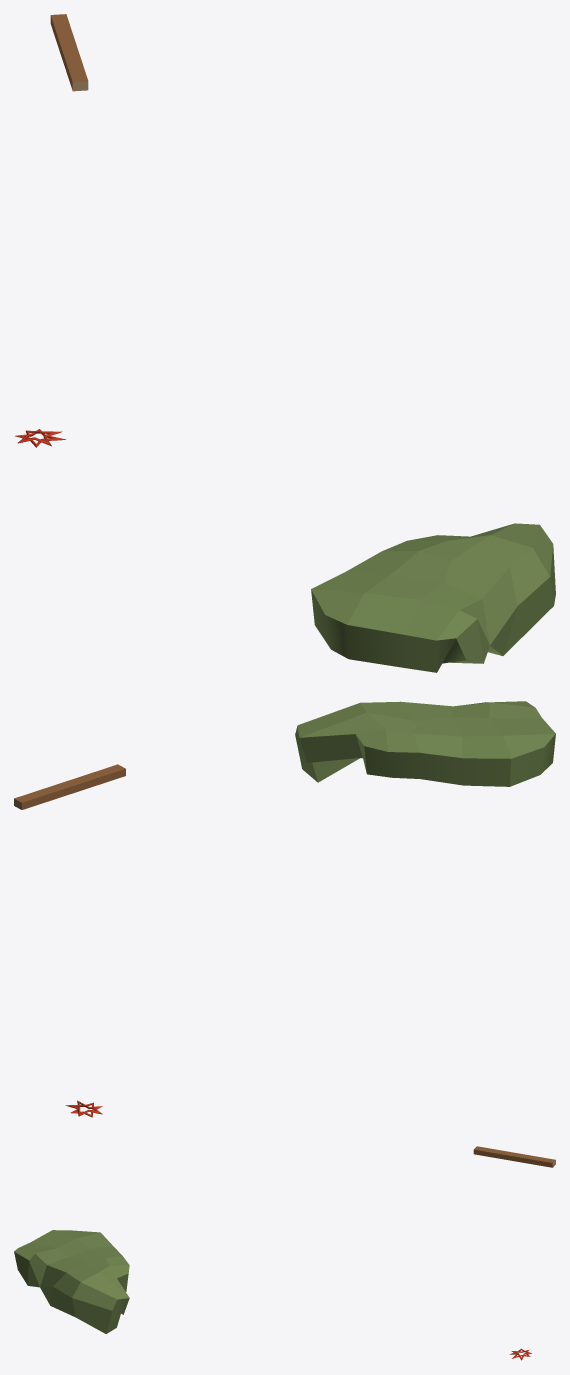
3 views of the same model, one above another, from view 1: azimuth 30°, elevation 25°; view 2: azimuth 150°, elevation 25°; view 3: azimuth 270°, elevation 25° (orthographic). The views are drawn at different scales.
Visible parts, largest first — view 1: Plane035_green3_0, Box815_brown_0; view 2: Plane035_green3_0, Box815_brown_0; view 3: Plane035_green3_0, Box815_brown_0.
Boxes of the visible parts, x1,y1,x2,y2 form: Plane035_green3_0: (311,523,555,672); Box815_brown_0: (50,14,88,90); Plane035_green3_0: (295,701,555,786); Box815_brown_0: (14,764,125,809); Plane035_green3_0: (14,1230,129,1333); Box815_brown_0: (473,1146,555,1167).
Bounding box in the file's own units: 775 × 1082 × 2573.
